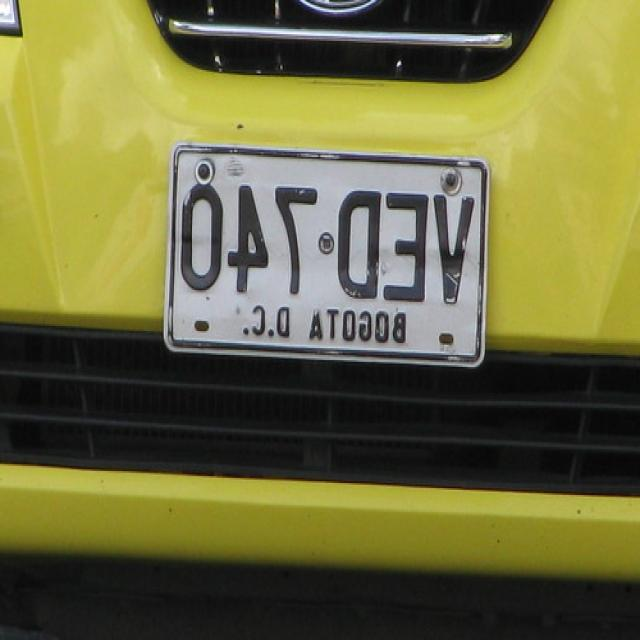placas: (178, 173, 477, 310)
